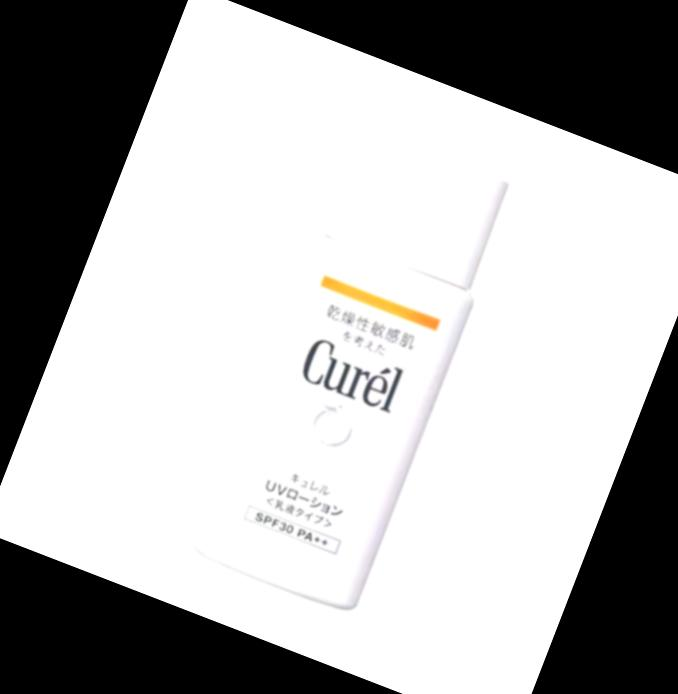cosmetic: (190, 118, 520, 611)
